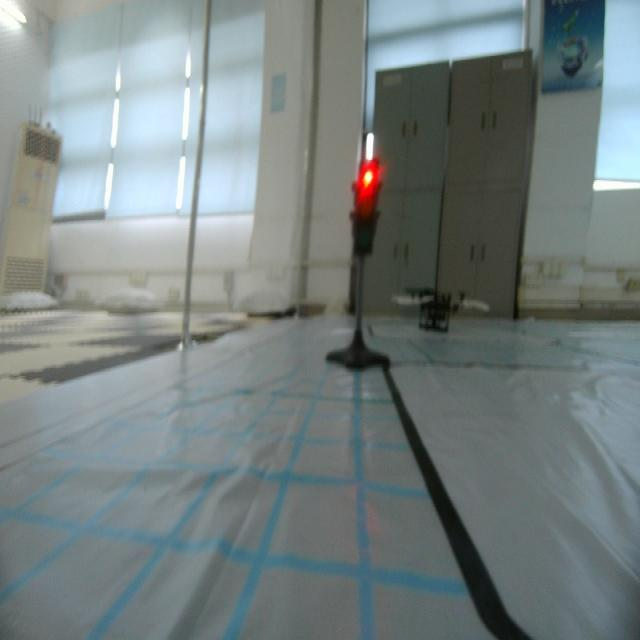red: (354, 164, 382, 257)
